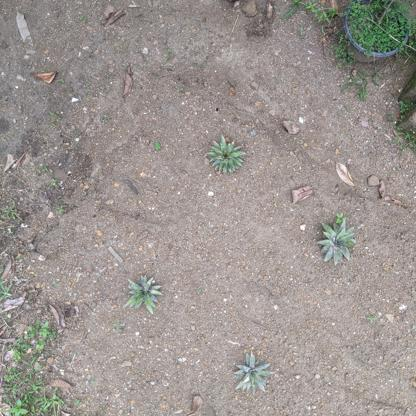pineapple: (316, 215, 362, 269), (207, 131, 249, 181), (234, 347, 276, 394), (123, 276, 165, 316)
